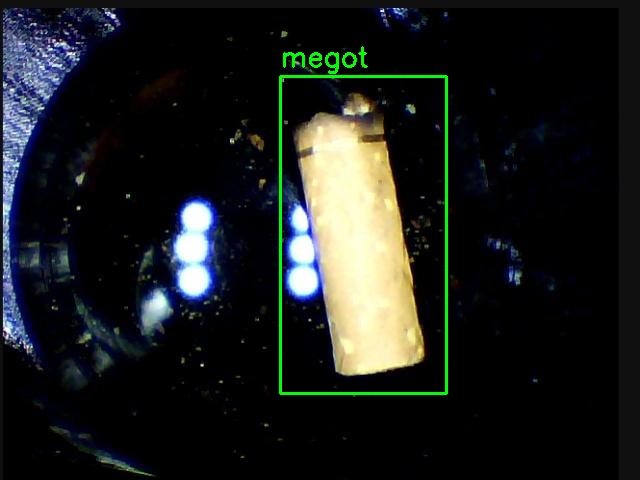megot: (280, 76, 446, 393)
